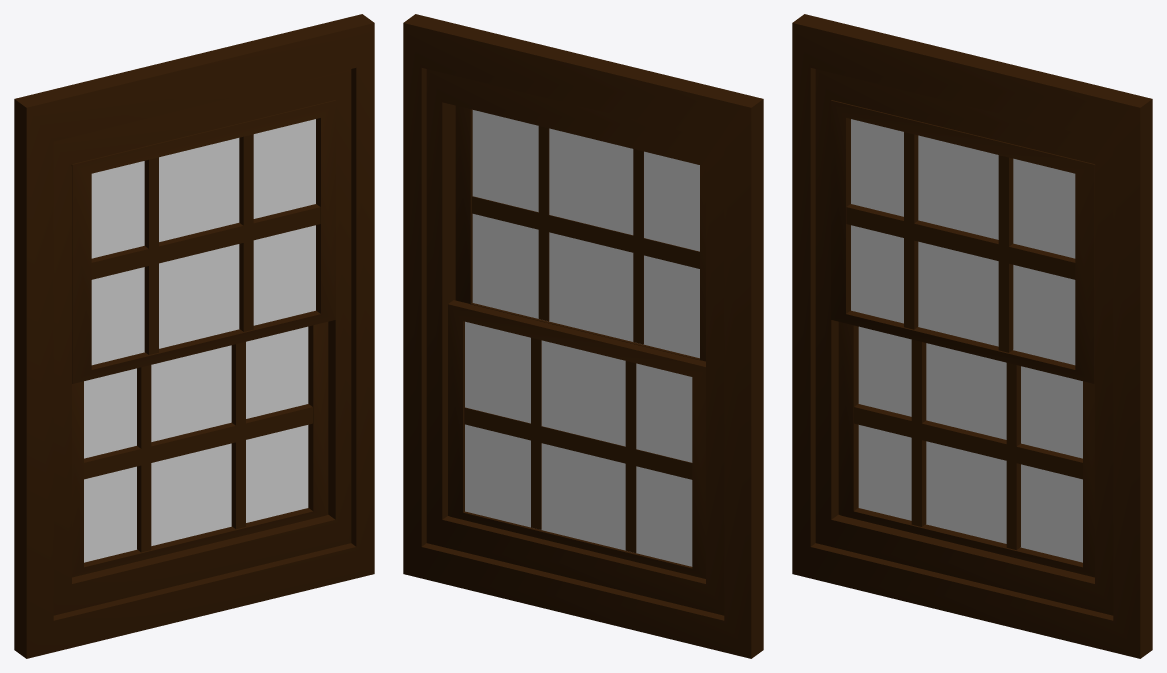
File: GameWindow.fbx
3 views of the same model, side by side, from view 1: azimuth 30°, elevation 25°; view 2: azimuth 150°, elevation 25°; view 3: azimuth 330°, elevation 25° (orthographic).
Parts seen in each view (by area): view 1: pPipe8, pPipe7, pPipe6; view 2: pPipe8, pPipe6, pPipe7; view 3: pPipe8, pPipe7, pPipe6.
Part boxes in pixels (left/top/right/bottom): pPipe8: left=14, top=14, right=374, bottom=658; pPipe7: left=71, top=100, right=335, bottom=383; pPipe6: left=72, top=322, right=328, bottom=577; pPipe8: left=403, top=14, right=763, bottom=658; pPipe6: left=448, top=300, right=705, bottom=578; pPipe7: left=455, top=105, right=705, bottom=361; pPipe8: left=792, top=14, right=1152, bottom=658; pPipe7: left=831, top=100, right=1095, bottom=383; pPipe6: left=838, top=322, right=1094, bottom=577.
Size of the model in its own units: 0.8157 by 1.23 by 0.0913.
